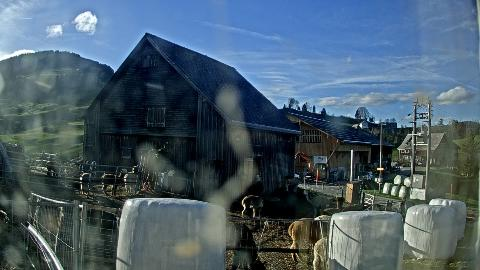car: (360, 172, 376, 181), (390, 166, 400, 174), (418, 160, 426, 166)
sheep: (288, 217, 334, 263), (228, 222, 269, 270), (74, 208, 120, 236), (100, 168, 128, 196), (304, 188, 330, 218), (312, 238, 330, 270), (241, 195, 264, 219), (283, 172, 307, 192), (124, 166, 138, 194), (321, 198, 345, 214), (81, 172, 97, 195), (46, 160, 66, 178), (368, 200, 393, 210), (0, 210, 10, 234), (253, 175, 264, 196), (341, 204, 366, 212), (314, 215, 332, 221)
